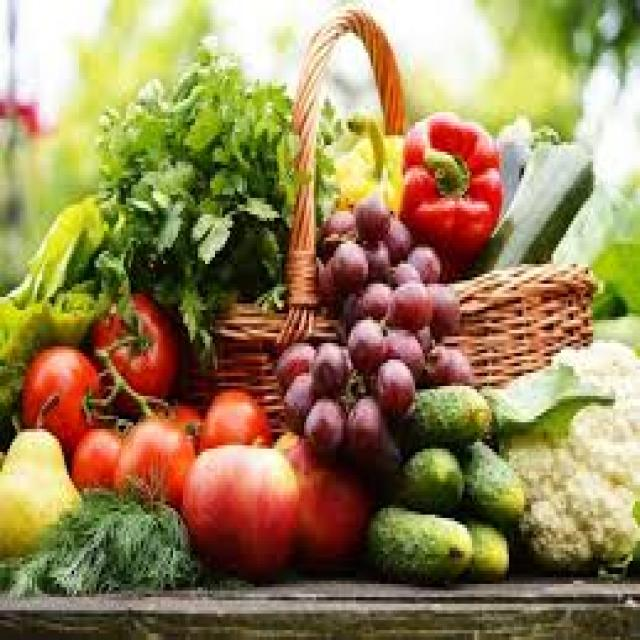organic waste: (96, 36, 284, 346), (499, 343, 638, 574), (0, 191, 114, 429), (19, 478, 208, 594), (178, 439, 296, 577), (398, 106, 502, 260), (274, 426, 378, 574), (479, 142, 593, 260), (2, 422, 82, 571), (86, 290, 183, 406), (15, 343, 114, 445), (114, 399, 205, 505), (363, 494, 470, 580), (548, 178, 628, 264), (336, 126, 403, 214), (408, 386, 492, 445), (460, 439, 519, 521), (196, 383, 270, 442), (393, 442, 460, 505), (69, 426, 124, 492), (494, 112, 531, 205), (344, 396, 386, 462), (462, 518, 507, 577), (346, 313, 385, 373), (380, 323, 422, 376), (309, 343, 346, 403), (388, 274, 425, 330), (304, 396, 343, 449), (326, 241, 368, 287), (428, 277, 460, 337), (425, 350, 472, 389), (351, 277, 388, 323), (376, 356, 408, 409), (353, 192, 388, 238), (279, 370, 309, 422), (274, 340, 314, 379), (381, 208, 410, 260), (405, 241, 440, 280), (316, 205, 354, 238), (383, 260, 420, 284), (366, 238, 388, 277)
